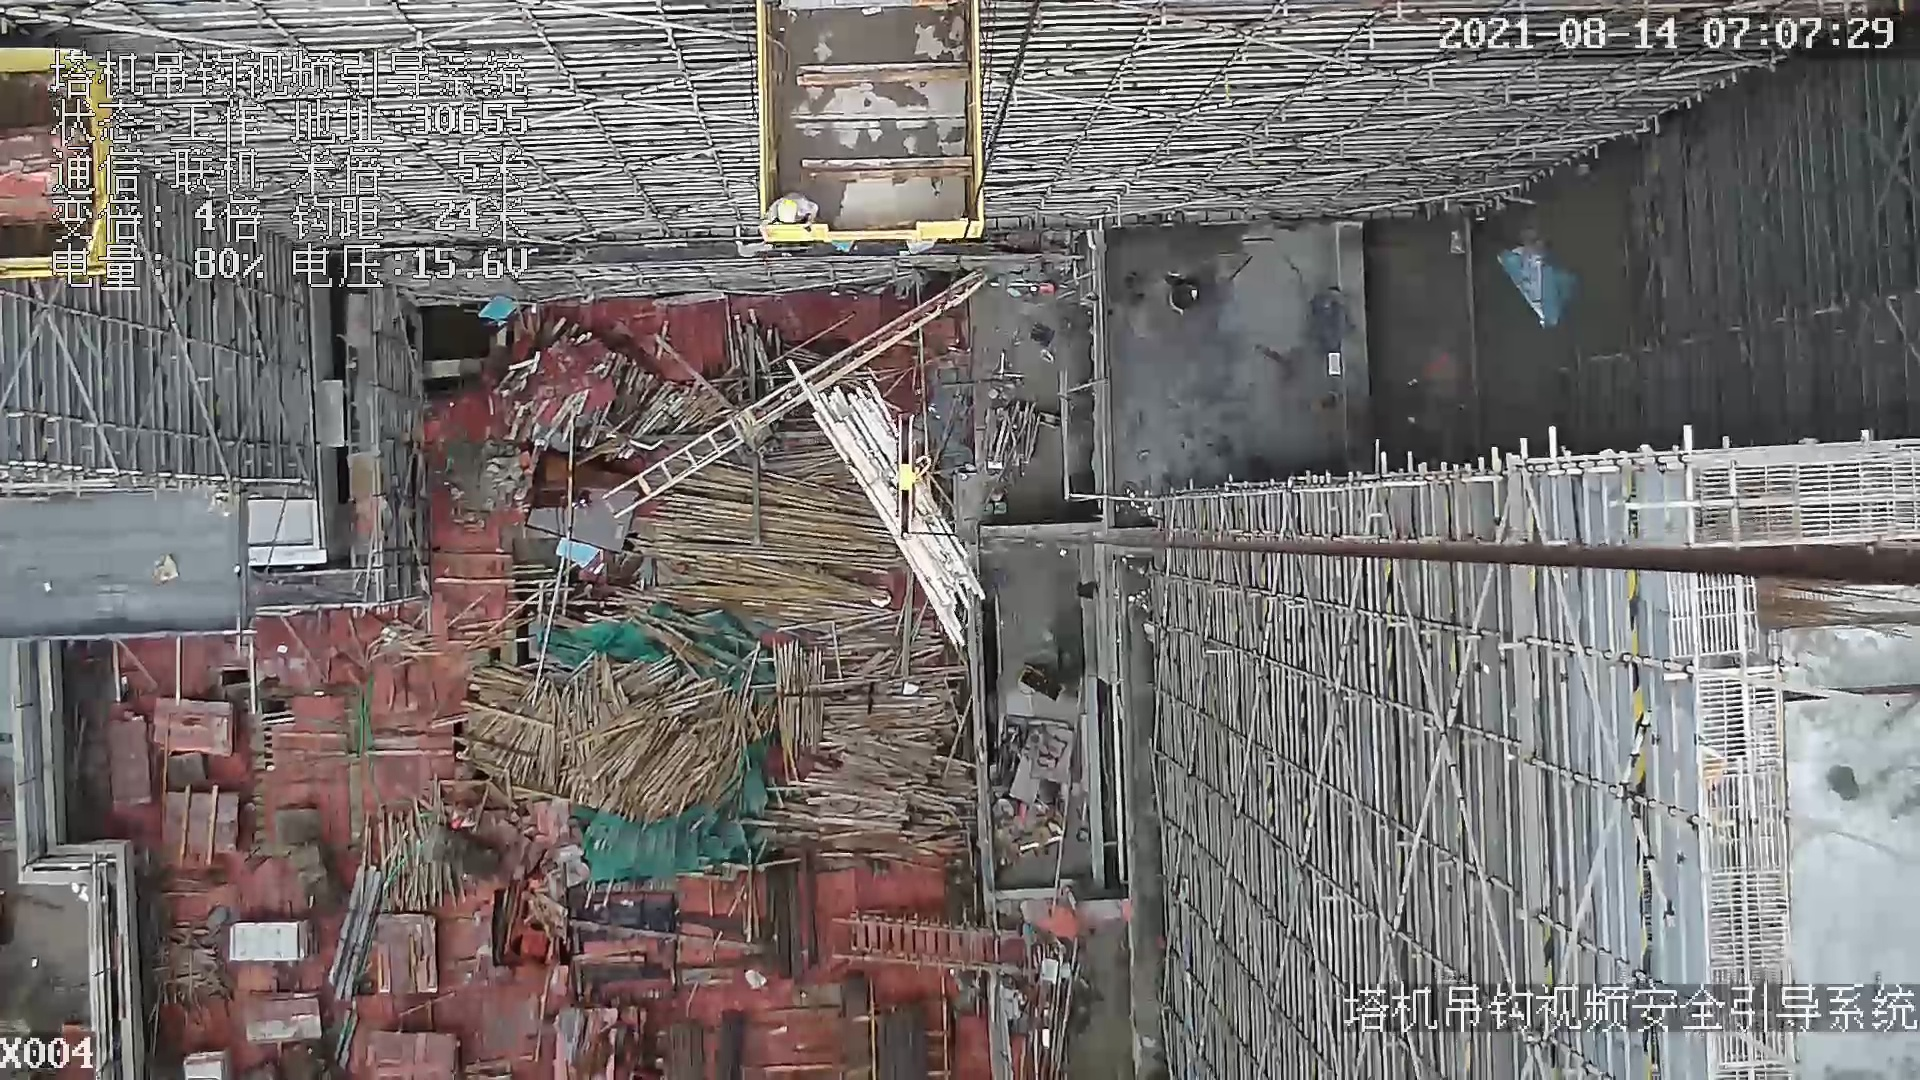helmet: (775, 200, 798, 225)
hook: (881, 408, 936, 547)
person: (746, 189, 818, 224)
